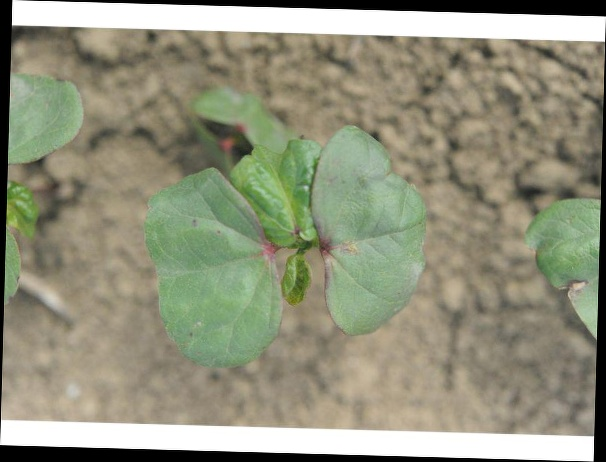cotton: (142, 120, 427, 372)
